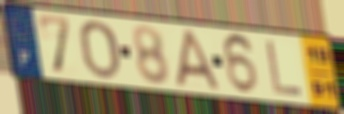6: (221, 32, 263, 97)
7: (35, 12, 73, 77)
8: (131, 23, 172, 86)
A: (175, 28, 222, 91)
L: (263, 39, 305, 98)
O: (77, 19, 122, 81)
